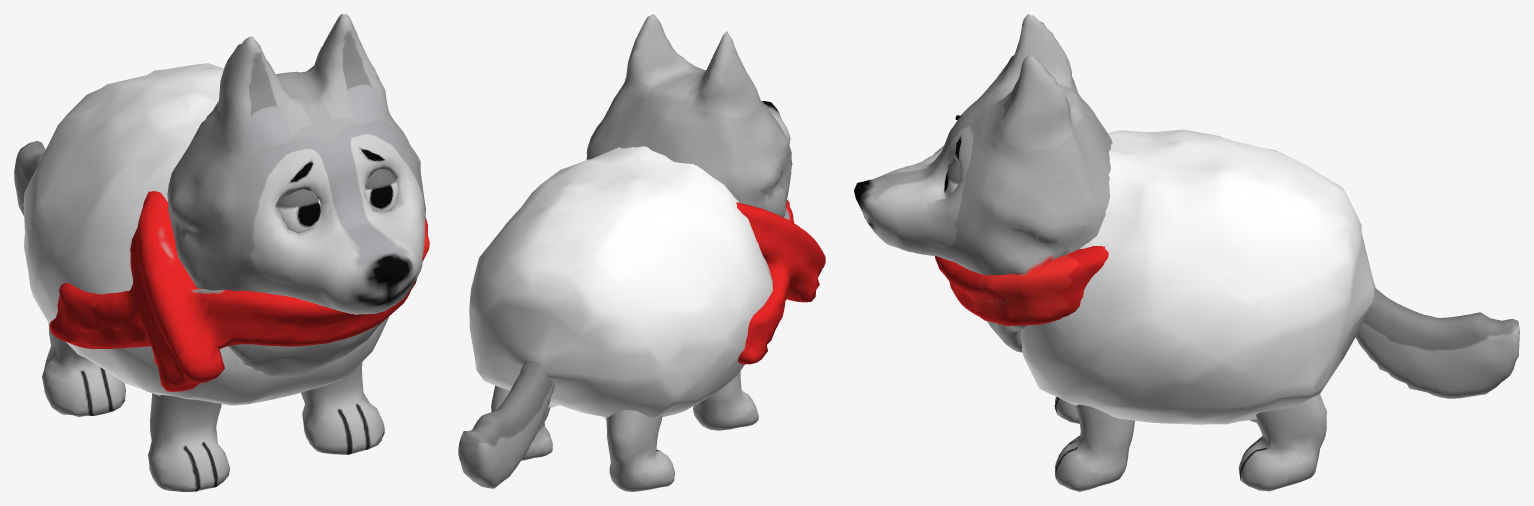
Rendered from wolf sheep.fbx.
3 views of the same model, side by side, from view 1: azimuth 30°, elevation 25°; view 2: azimuth 150°, elevation 25°; view 3: azimuth 270°, elevation 25° (orthographic). The views are drawn at different scales.
Parts seen in each view (by area): view 1: wolf sheep; view 2: wolf sheep; view 3: wolf sheep.
Part boxes in pixels (<box>): wolf sheep: <box>14,14,429,491</box>; wolf sheep: <box>458,14,825,491</box>; wolf sheep: <box>854,14,1519,491</box>.
Bounding box in the file's own units: 95.45 × 129 × 189.
Materials: 2 (2 with a texture image).
